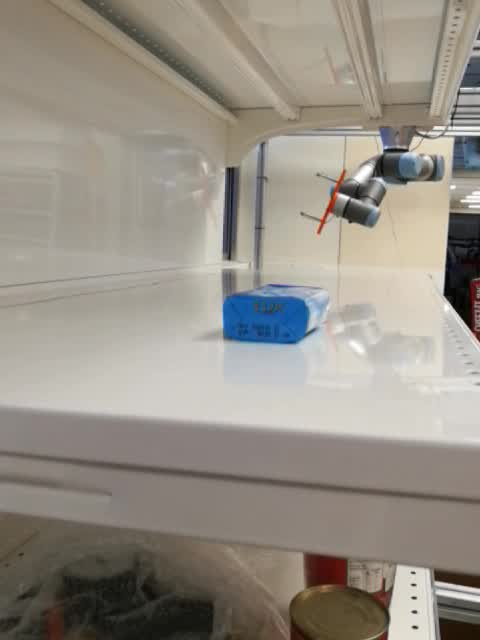soap: (221, 283, 330, 346)
